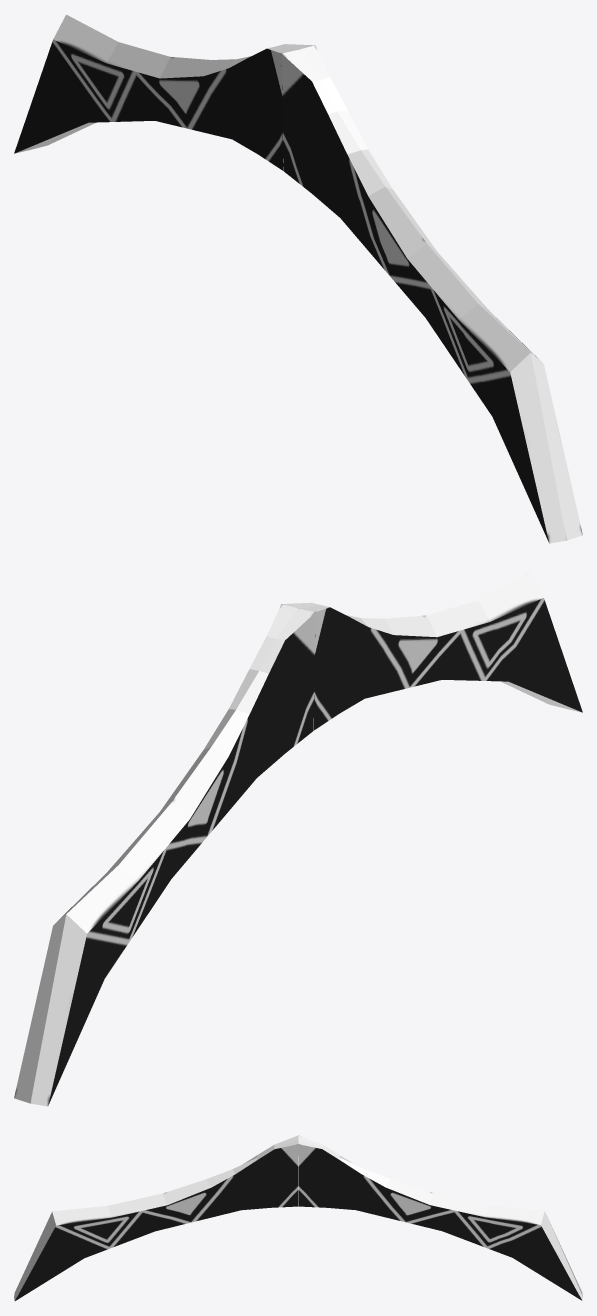
Rendered from boomerang.glb.
3 renders of one model, top to bottom at view 1: azimuth 30°, elevation 25°; view 2: azimuth 150°, elevation 25°; view 3: azimuth 270°, elevation 25°, orthographic. The views are drawn at different scales.
Parts seen in each view (by area): view 1: Boomerang3DModelV1; view 2: Boomerang3DModelV1; view 3: Boomerang3DModelV1.
Boxes of the visible parts, x1,y1,x2,y2 form: Boomerang3DModelV1: (14, 14, 582, 543); Boomerang3DModelV1: (14, 572, 582, 1106); Boomerang3DModelV1: (14, 1135, 582, 1300).
Size of the model in its own units: 6.09 by 47.93 by 157.
1 material, 1 textured.
